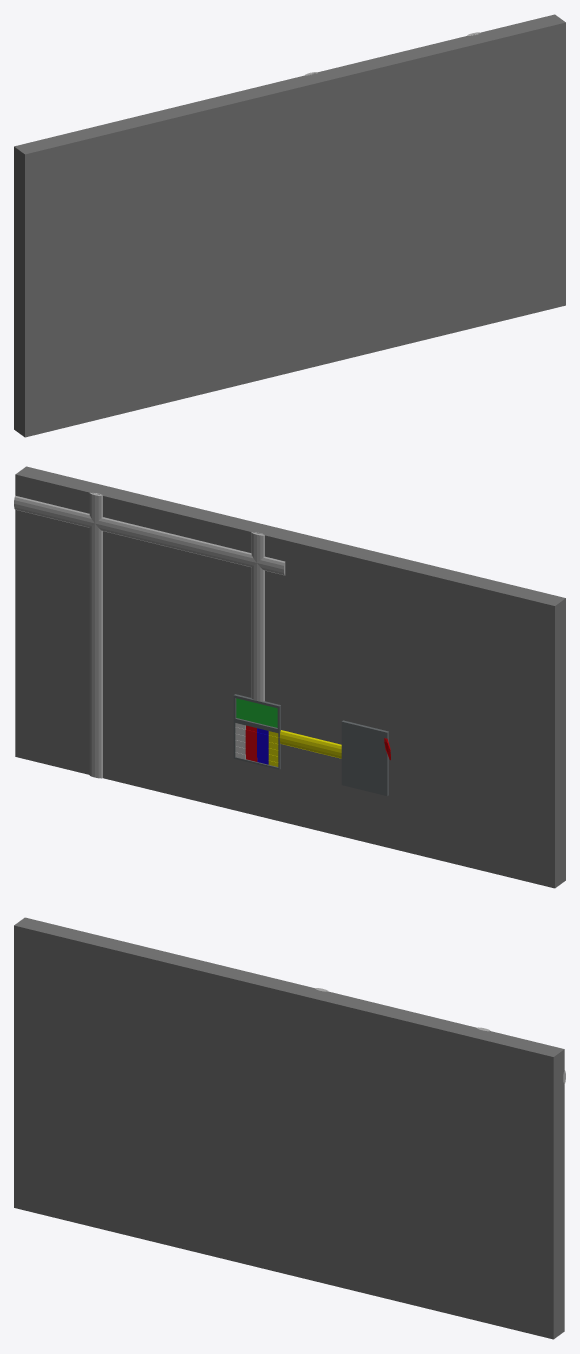
Rendered from duvar002.fbx.
The picture shows the model from 3 angles, top to bottom: view 1: azimuth 30°, elevation 25°; view 2: azimuth 150°, elevation 25°; view 3: azimuth 330°, elevation 25°; orthographic projection.
Parts seen in each view (by area): view 1: duvar002; view 2: duvar002; view 3: duvar002.
Boxes of the visible parts, x1,y1,x2,y2 form: duvar002: (14,14,565,437); duvar002: (14,466,565,888); duvar002: (14,917,565,1339).
Size of the model in its own units: 1000 by 500 by 50.
